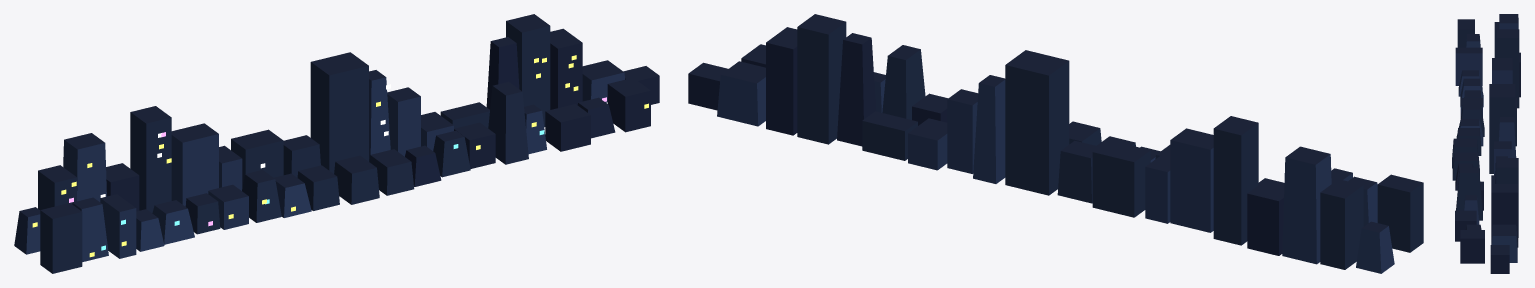
Rendered from W1_Far_SkylineA.fbx.
3 renders of one model, left to right at view 1: azimuth 30°, elevation 25°; view 2: azimuth 150°, elevation 25°; view 3: azimuth 270°, elevation 25°, orthographic. The views are drawn at different scales.
Parts seen in each view (by area): view 1: W1_Far_SkylineA; view 2: W1_Far_SkylineA; view 3: W1_Far_SkylineA.
Part boxes in pixels (box(x1,y1,x2,y2)): W1_Far_SkylineA: box(14, 14, 659, 273); W1_Far_SkylineA: box(688, 14, 1423, 273); W1_Far_SkylineA: box(1452, 14, 1520, 273).
Bounding box in the file's own units: 438 × 72.37 × 59.05.
